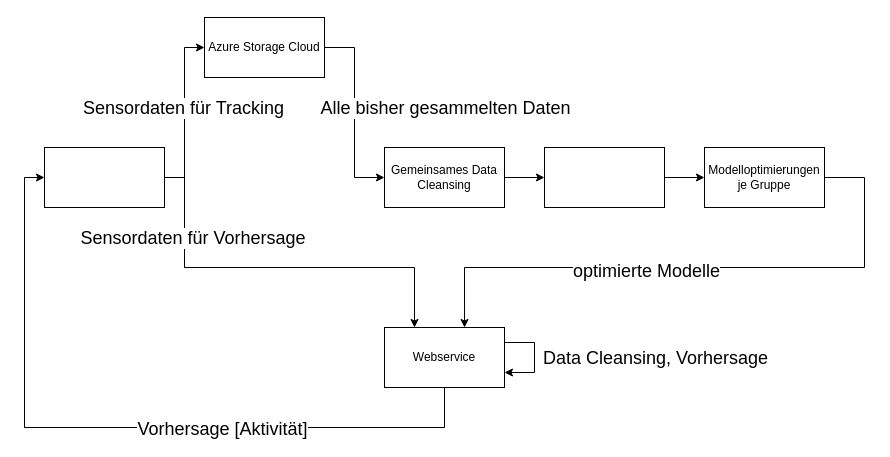
Some shapes in this 890 by 457 pixel diagram are drawn without their labels. The box of each missing label's shape, as (x1, y1, x2, y2) in pixels:
ActivityTracker App: (44, 146, 164, 208)
Data Cleansing je Gruppe: (544, 146, 664, 208)
